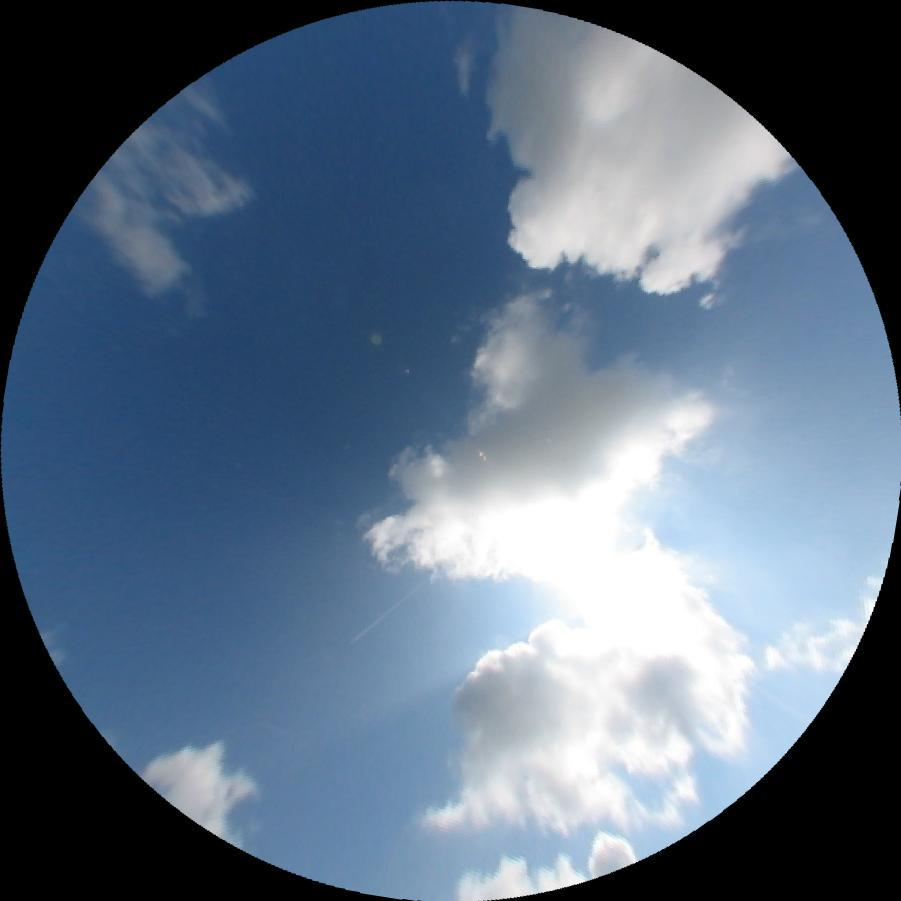contrail young: (349, 574, 429, 645), (258, 721, 283, 732)
